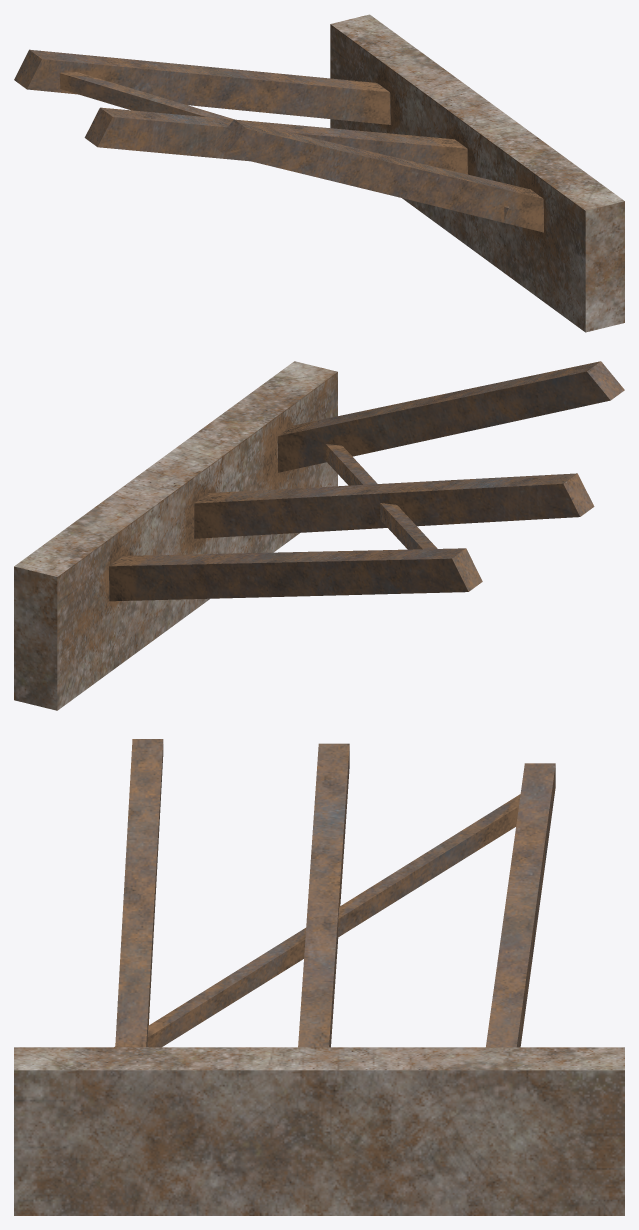
The model's file is ApoyoEdificio4.obj.
3 renders of one model, top to bottom at view 1: azimuth 30°, elevation 25°; view 2: azimuth 150°, elevation 25°; view 3: azimuth 270°, elevation 25°, orthographic. The views are drawn at different scales.
Parts seen in each view (by area): view 1: Box125; view 2: Box125; view 3: Box125.
Part boxes in pixels (x1=…): Box125: x1=14, y1=14, x2=624, y2=332; Box125: x1=14, y1=361, x2=624, y2=710; Box125: x1=14, y1=739, x2=624, y2=1215.
Size of the model in its own units: 69.4 by 39.45 by 76.64.
Materials: 1 (1 with a texture image).
